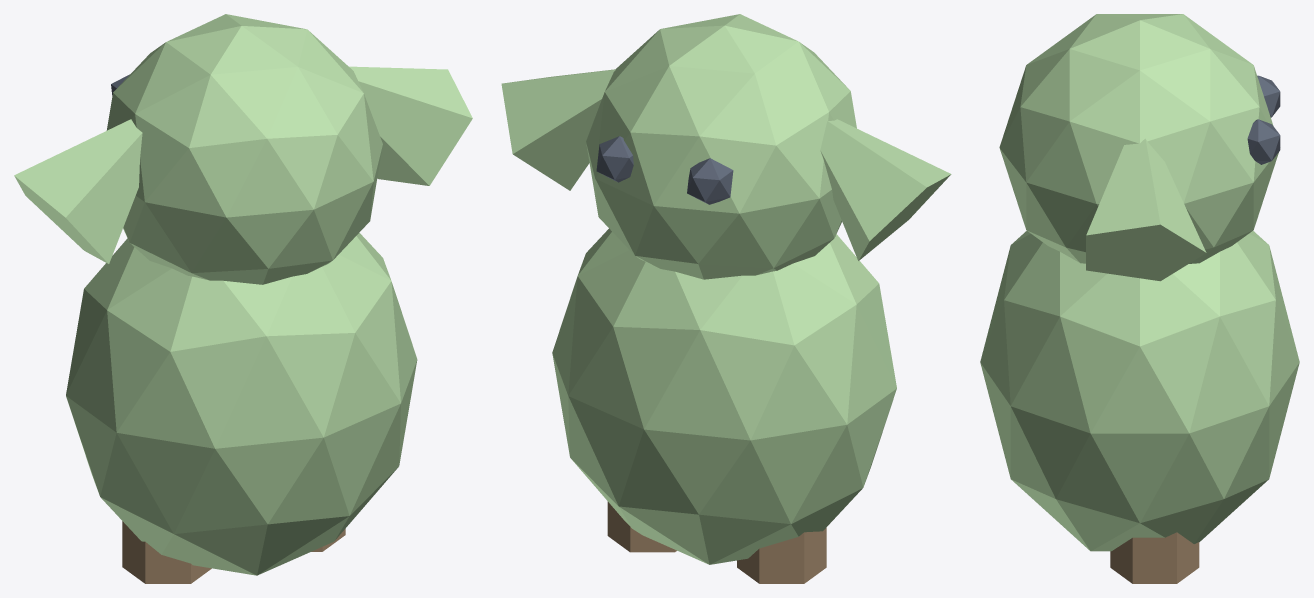
Rendered from goblin.glb.
3 renders of one model, left to right at view 1: azimuth 30°, elevation 25°; view 2: azimuth 150°, elevation 25°; view 3: azimuth 270°, elevation 25°, orthographic. The views are drawn at different scales.
Visible parts, largest first — view 1: goblin; view 2: goblin; view 3: goblin.
Boxes of the visible parts, x1,y1,x2,y2 form: goblin: (14, 14, 472, 583); goblin: (501, 14, 951, 583); goblin: (980, 14, 1299, 583).
Bounding box in the file's own units: 0.6587 × 0.786 × 0.432.
